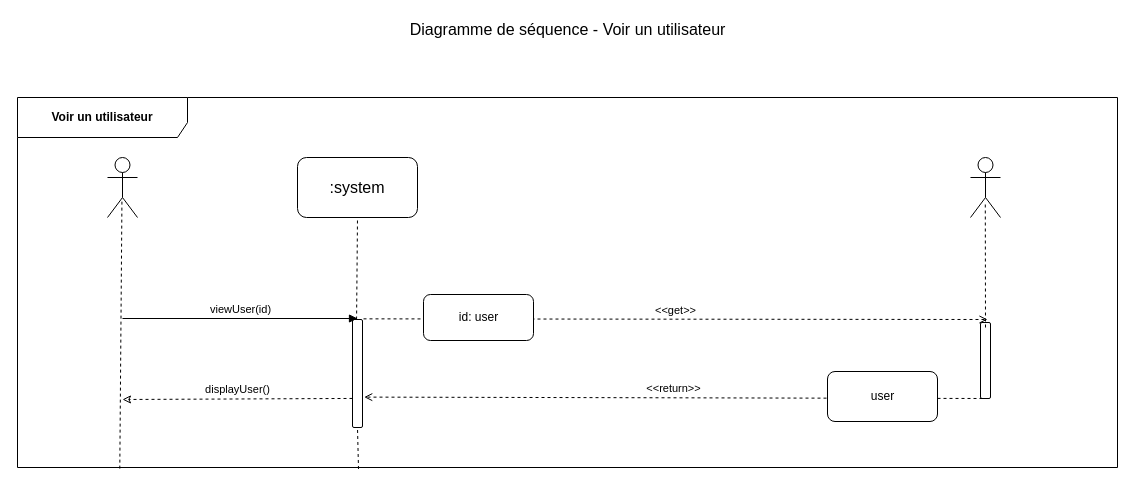
Image size: 1135x487. Some labels were removed from this diagram. The centre of each missing label's shape, as x and y in pixels:
":bdd" goes at point 985,187.
":utilisateur" goes at point 122,187.
